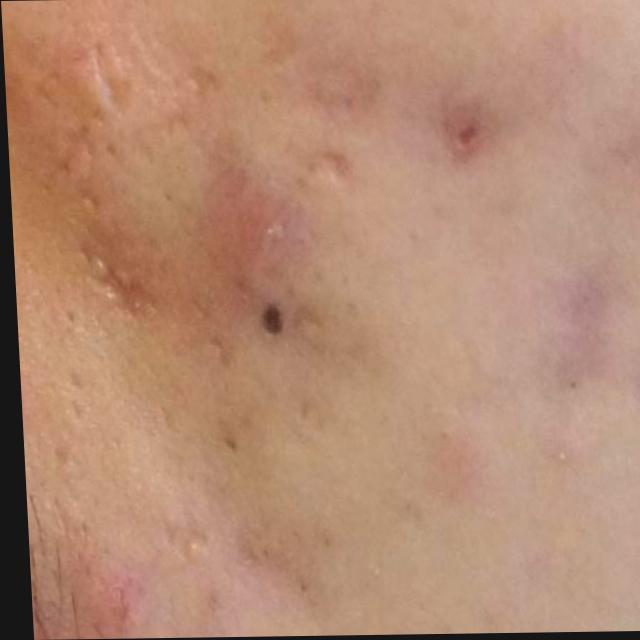dark spot: (246, 294, 292, 347)
